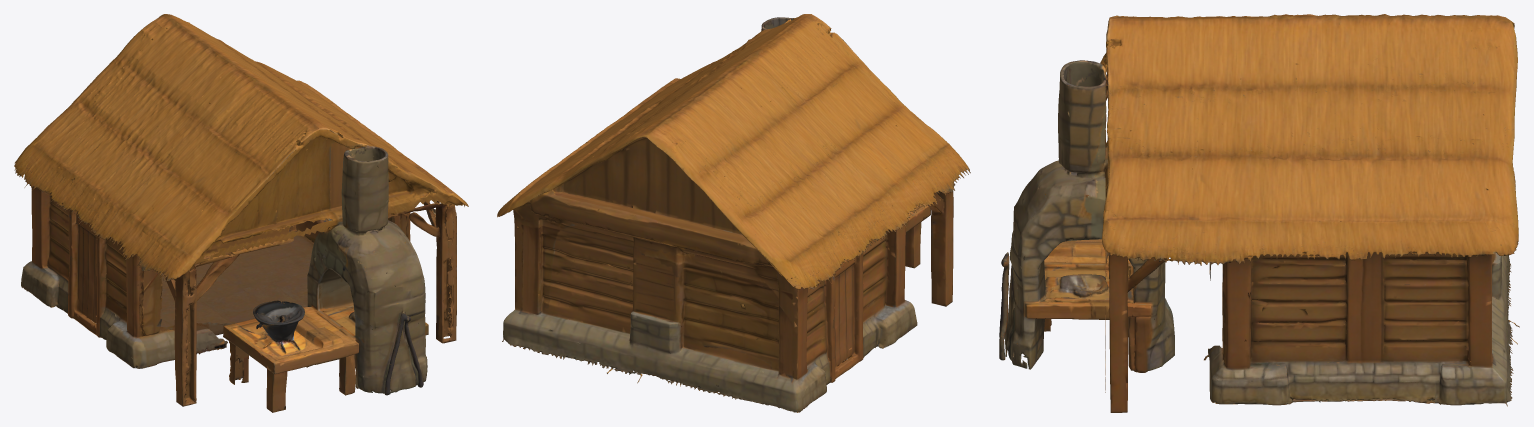
The model's file is Medieval_Smithy_0722215906_texture.fbx.
The picture shows the model from 3 angles, left to right: view 1: azimuth 30°, elevation 25°; view 2: azimuth 150°, elevation 25°; view 3: azimuth 270°, elevation 25°; orthographic projection. The views are drawn at different scales.
Parts seen in each view (by area): view 1: Mesh_0; view 2: Mesh_0; view 3: Mesh_0.
Part boxes in pixels (x1,y1,x2,y2): Mesh_0: [14, 14, 468, 412]; Mesh_0: [497, 14, 970, 412]; Mesh_0: [999, 14, 1519, 412].
Bounding box in the file's own units: 172 × 129 × 195.
Materials: 1 (1 with a texture image).
